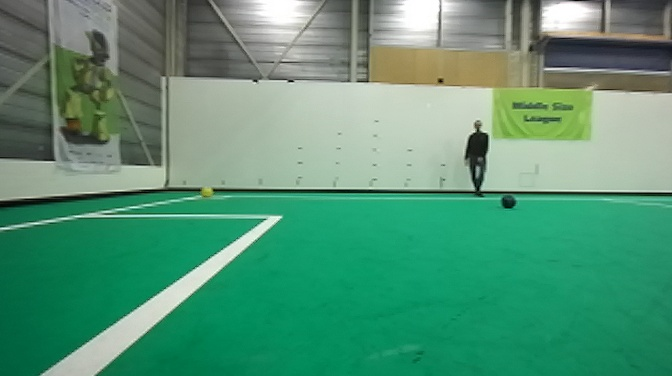ball: (499, 190, 518, 213), (198, 184, 214, 200)
human: (460, 121, 495, 198)
